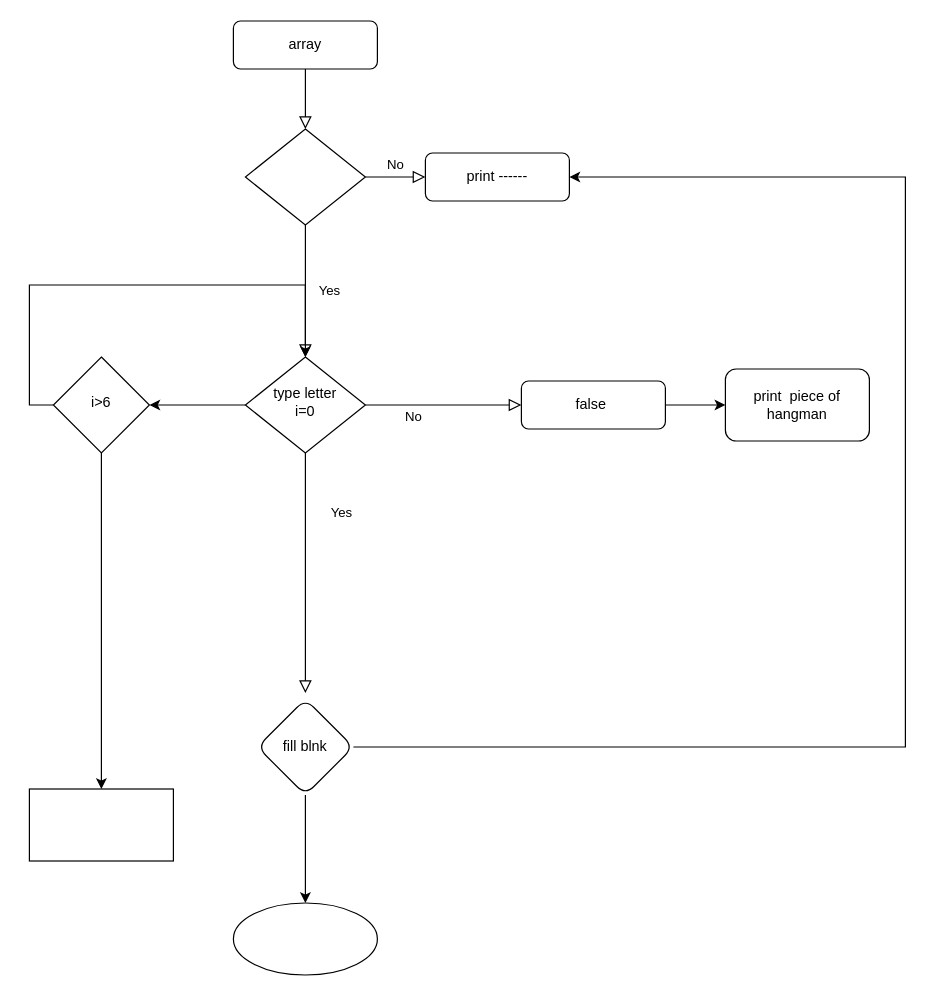
This 936x996 diagram has some shape labels left out. The shapes that lost their labels are listed below. From the top down, each one's box as (x1, y1, x2, y2) in pixels, then its label:
(244, 128, 365, 225): select random
(28, 788, 173, 861): game over
(232, 902, 377, 975): win
